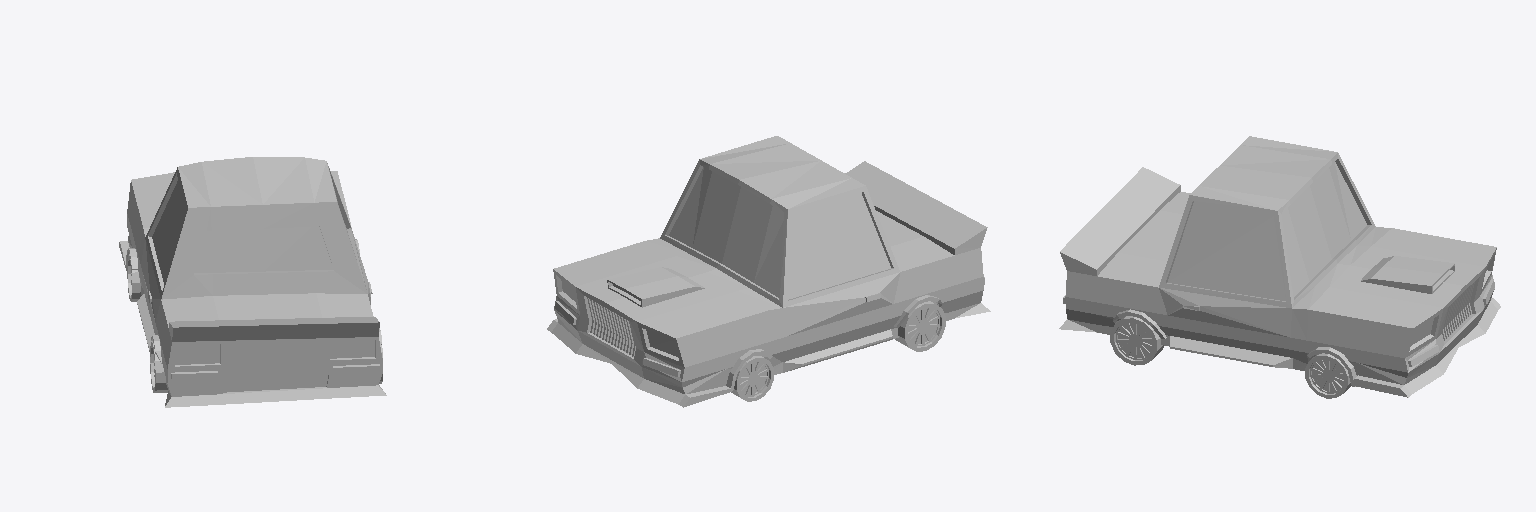
Rendered from car.obj.
The picture shows the model from 3 angles: view 1: azimuth 30°, elevation 25°; view 2: azimuth 150°, elevation 25°; view 3: azimuth 270°, elevation 25°; orthographic projection.
Parts seen in each view (by area): view 1: wheel1.1_ID93; view 2: wheel1.1_ID93; view 3: wheel1.1_ID93.
Boxes of the visible parts, box(x1,y1,x2,y2) form: wheel1.1_ID93: box(119, 157, 386, 407); wheel1.1_ID93: box(547, 136, 990, 407); wheel1.1_ID93: box(1059, 136, 1500, 398).
Size of the model in its own units: 2.16 by 1.11 by 2.64.